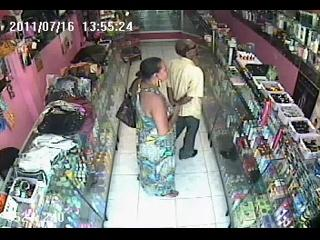Normal: (132, 57, 180, 199), (166, 39, 205, 160), (116, 77, 140, 128)
